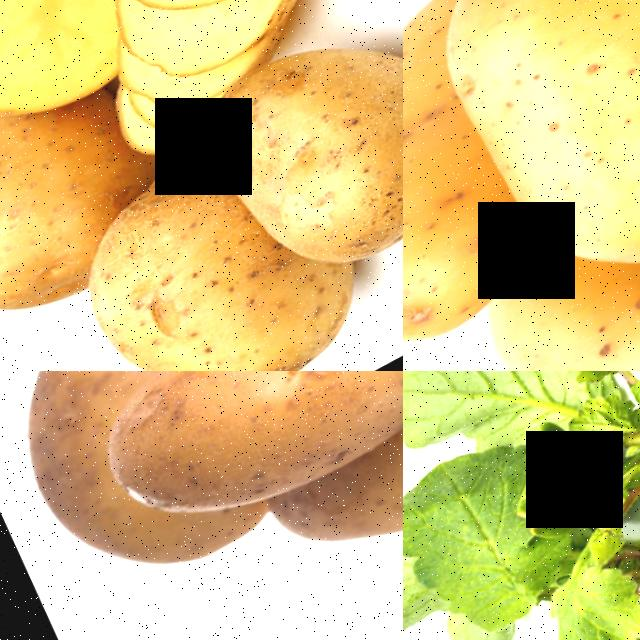potato: (403, 0, 640, 334), (80, 371, 403, 574), (188, 0, 403, 303), (59, 154, 350, 371), (403, 39, 553, 371), (60, 0, 393, 109), (480, 165, 640, 371), (0, 107, 122, 359), (273, 371, 403, 607), (0, 0, 146, 164), (0, 371, 175, 459)
radishes: (503, 371, 640, 640)
